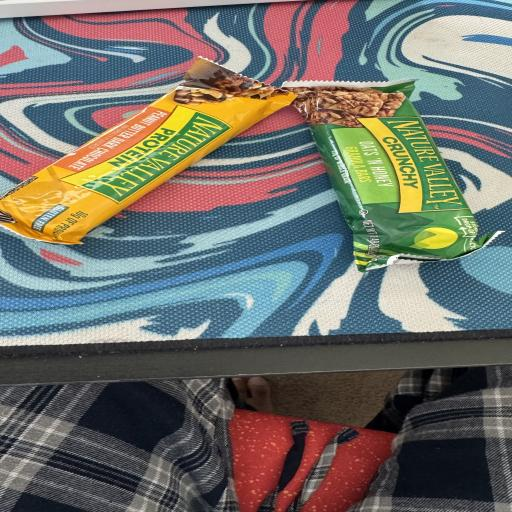granola: (0, 58, 295, 244), (283, 80, 501, 271)
